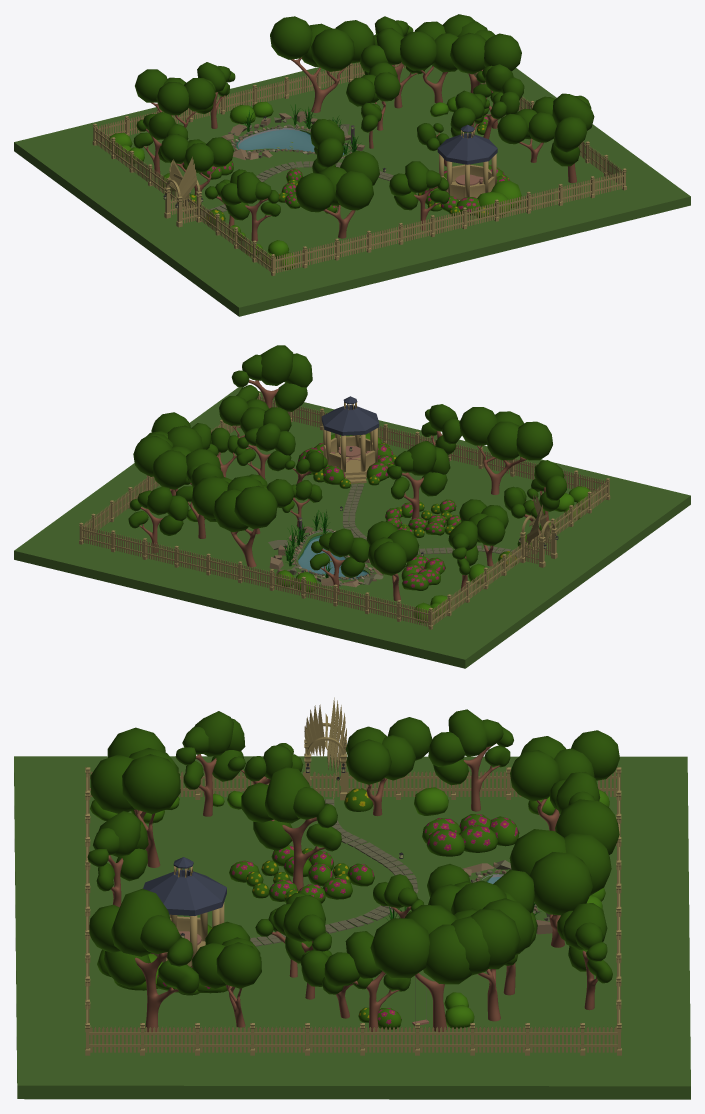
The model's file is 2park2.glb.
3 views of the same model, one above another, from view 1: azimuth 30°, elevation 25°; view 2: azimuth 150°, elevation 25°; view 3: azimuth 270°, elevation 25° (orthographic). The views are drawn at different scales.
Parts seen in each view (by area): view 1: Ground, Icosphere.084, Icosphere.083, Roof, Pond, Icosphere.089, Water, Icosphere.090, Leaves1.003, Icosphere.017, Leaves1, Icosphere.077 (+25 smaller); view 2: Ground, Icosphere.083, Roof, Icosphere.089, Icosphere.048, Leaves1.007, Icosphere.077, Icosphere.091, Leaves1.005, Icosphere.015, Icosphere.085, Icosphere.082 (+19 smaller); view 3: Ground, Leaves1.005, Leaves1, Leaves1.007, Roof, Icosphere.077, Icosphere.083, Icosphere.018, Leaves1.004, Icosphere.015, Icosphere.090, Icosphere.003 (+47 smaller).
Part boxes in pixels (x1,y1,x2,y2): Ground: (14,62,690,316); Icosphere.084: (311,28,354,71); Icosphere.083: (270,16,312,59); Roof: (437,133,497,164); Pond: (237,128,350,154); Icosphere.089: (295,173,335,212); Water: (236,130,343,154); Icosphere.090: (335,171,373,210); Leaves1.003: (400,31,436,70); Icosphere.017: (450,33,486,74); Leaves1: (484,33,521,71); Icosphere.077: (552,93,594,130); Ground: (14,387,690,668); Icosphere.083: (234,485,277,528); Roof: (321,404,379,435); Icosphere.089: (516,421,552,460); Icosphere.048: (152,450,187,489); Leaves1.007: (459,407,497,445); Icosphere.077: (260,345,293,385); Icosphere.091: (486,421,519,460); Leaves1.005: (191,476,228,519); Icosphere.015: (133,436,172,476); Icosphere.085: (213,489,248,532); Icosphere.082: (373,541,407,575); Ground: (14,756,690,1099); Leaves1.005: (530,852,592,915); Leaves1: (370,918,429,978); Leaves1.007: (122,754,180,814); Roof: (143,869,226,915); Icosphere.077: (111,888,170,956); Icosphere.083: (555,799,619,854); Icosphere.018: (423,924,471,984); Leaves1.004: (510,750,560,801); Icosphere.015: (471,909,520,969); Icosphere.090: (90,754,134,813); Icosphere.003: (265,766,310,823).
Size of the model in its own units: 62.83 by 19.96 by 54.46.
Materials: 26 (2 with a texture image).
